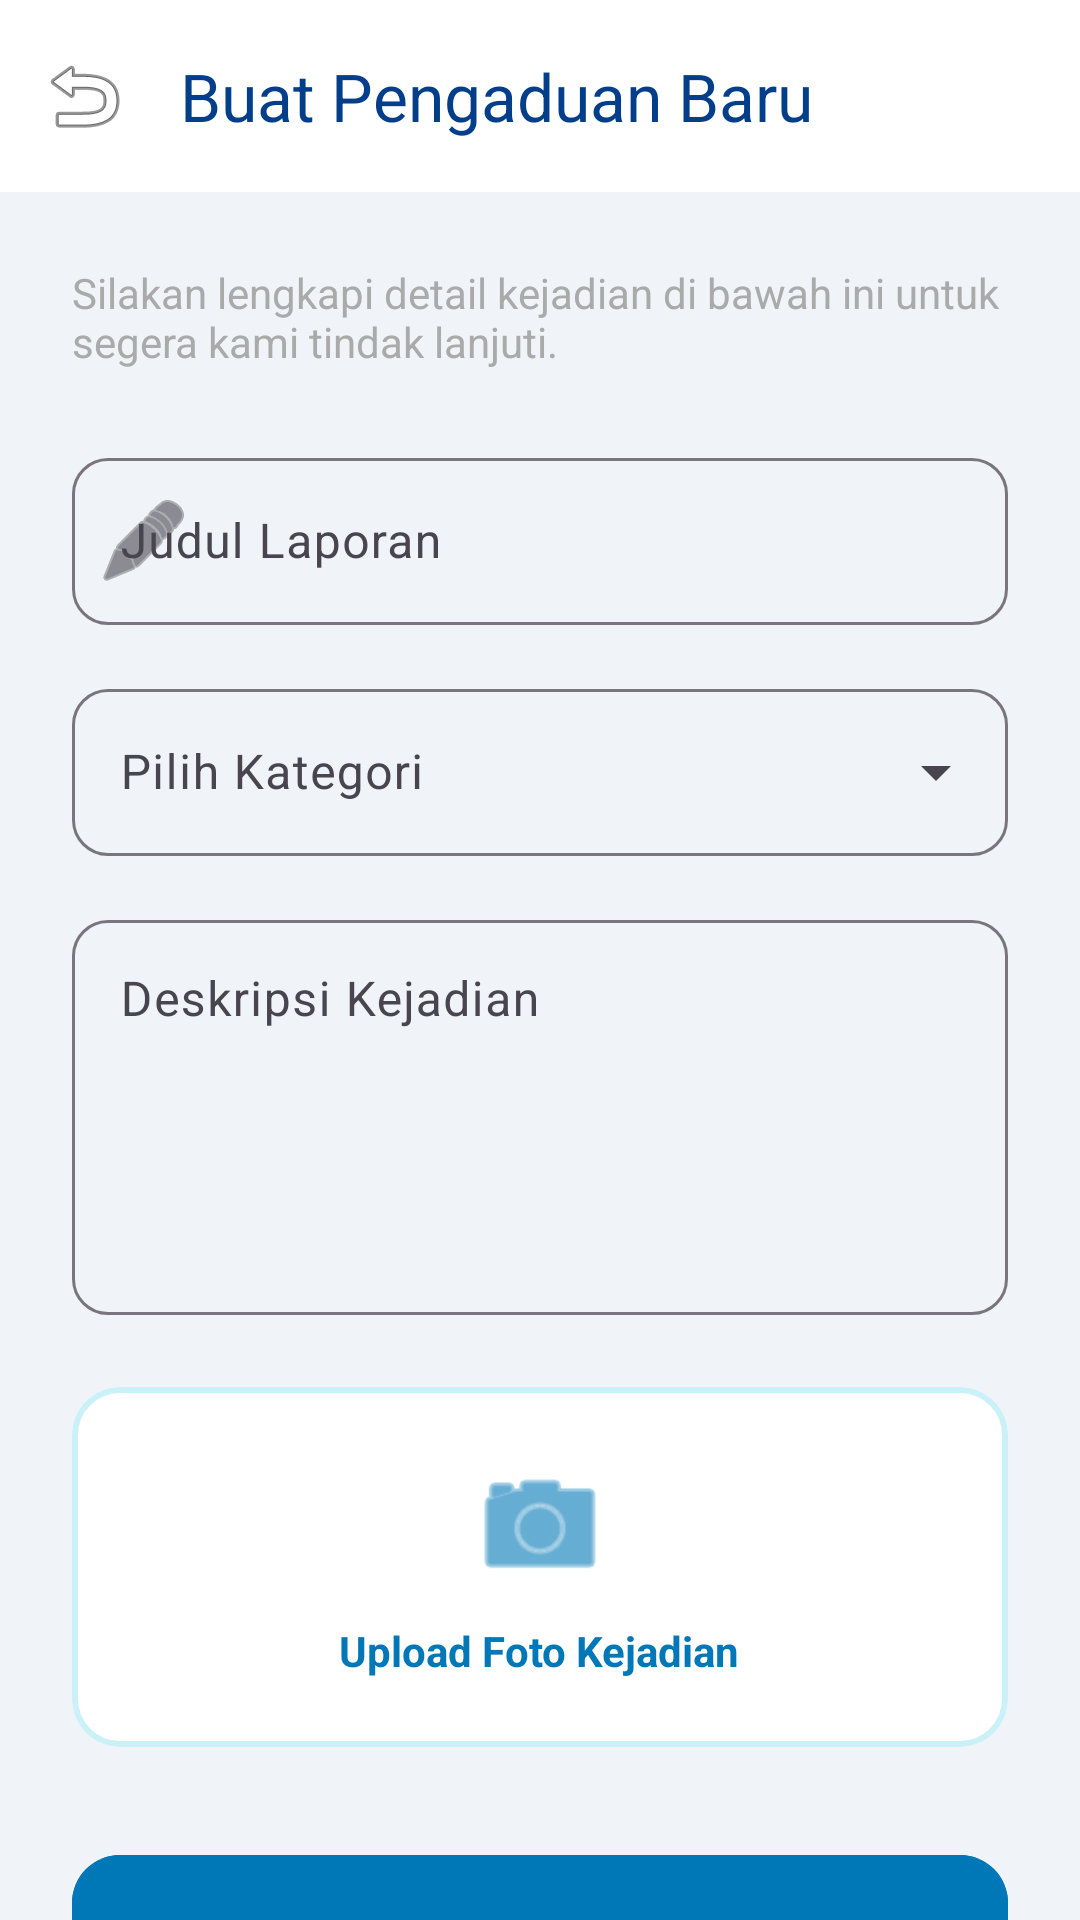

Named icons in this screenshot (1080 × 1920) and their centers, (x,y):
camera: (540,1523)
